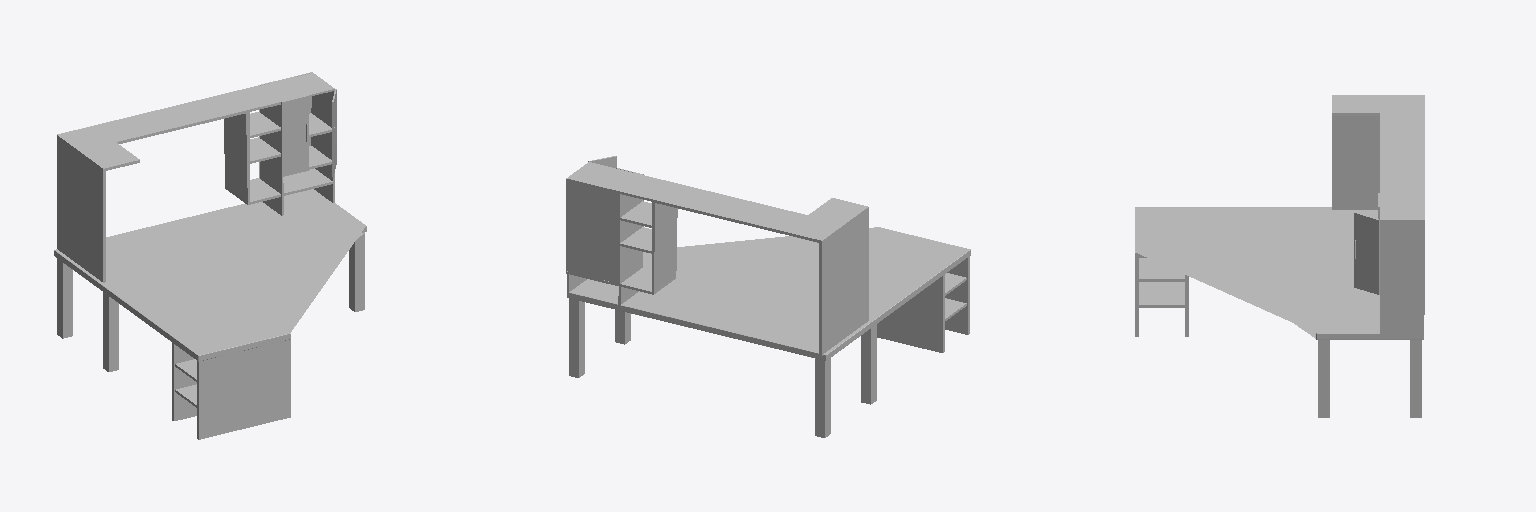
Rendered from desk10.obj.
3 renders of one model, left to right at view 1: azimuth 30°, elevation 25°; view 2: azimuth 150°, elevation 25°; view 3: azimuth 270°, elevation 25°, orthographic.
Visible parts, largest first — view 1: BasicDesk_DualPlacement, LeftDoor; view 2: BasicDesk_DualPlacement; view 3: BasicDesk_DualPlacement, RightDoor.
Boxes of the visible parts, x1=… form: BasicDesk_DualPlacement: x1=54, y1=72, x2=366, y2=439; LeftDoor: x1=281, y1=95, x2=308, y2=176; BasicDesk_DualPlacement: x1=566, y1=162, x2=970, y2=437; BasicDesk_DualPlacement: x1=1135, y1=95, x2=1424, y2=417; RightDoor: x1=1354, y1=212, x2=1379, y2=294.
Size of the model in its own units: 3.9 by 2.84 by 3.77.